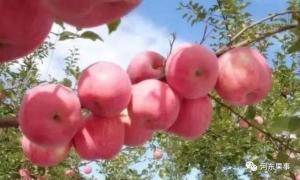apple: (18, 82, 83, 147), (215, 44, 272, 106), (75, 61, 130, 116), (165, 43, 218, 99), (126, 79, 179, 131), (73, 113, 124, 160), (166, 94, 213, 140), (21, 135, 71, 167), (126, 50, 165, 83)
